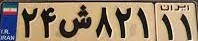character: (56, 2, 95, 41), (114, 3, 135, 41), (95, 2, 114, 41), (135, 3, 153, 41), (21, 5, 39, 40), (40, 4, 56, 41), (160, 11, 178, 41), (178, 11, 196, 41)
